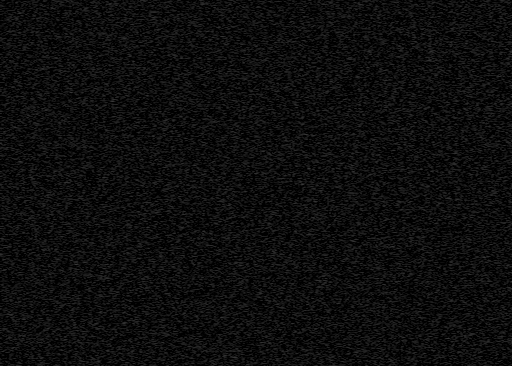wv_am: (126, 0, 131, 366)
wv_cw: (478, 0, 483, 366), (61, 0, 66, 366)
wv_wbfm: (73, 0, 110, 297), (72, 304, 109, 366)
